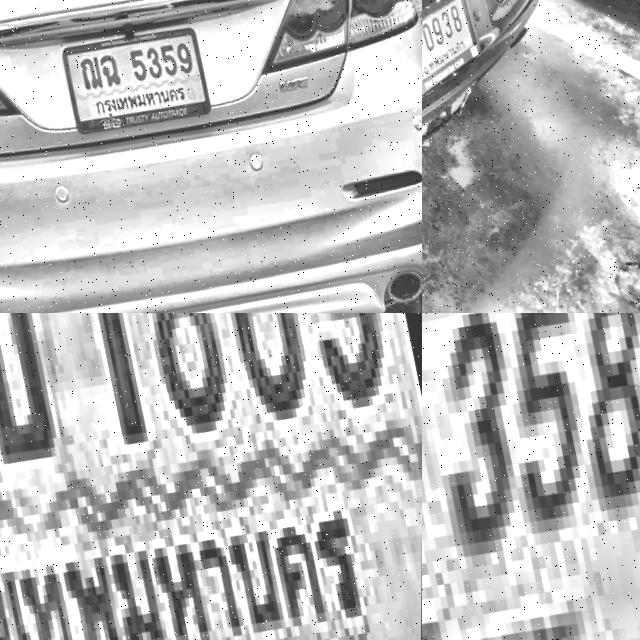license-plate: (0, 313, 422, 640), (422, 313, 640, 640), (58, 15, 214, 139), (422, 0, 490, 106)
